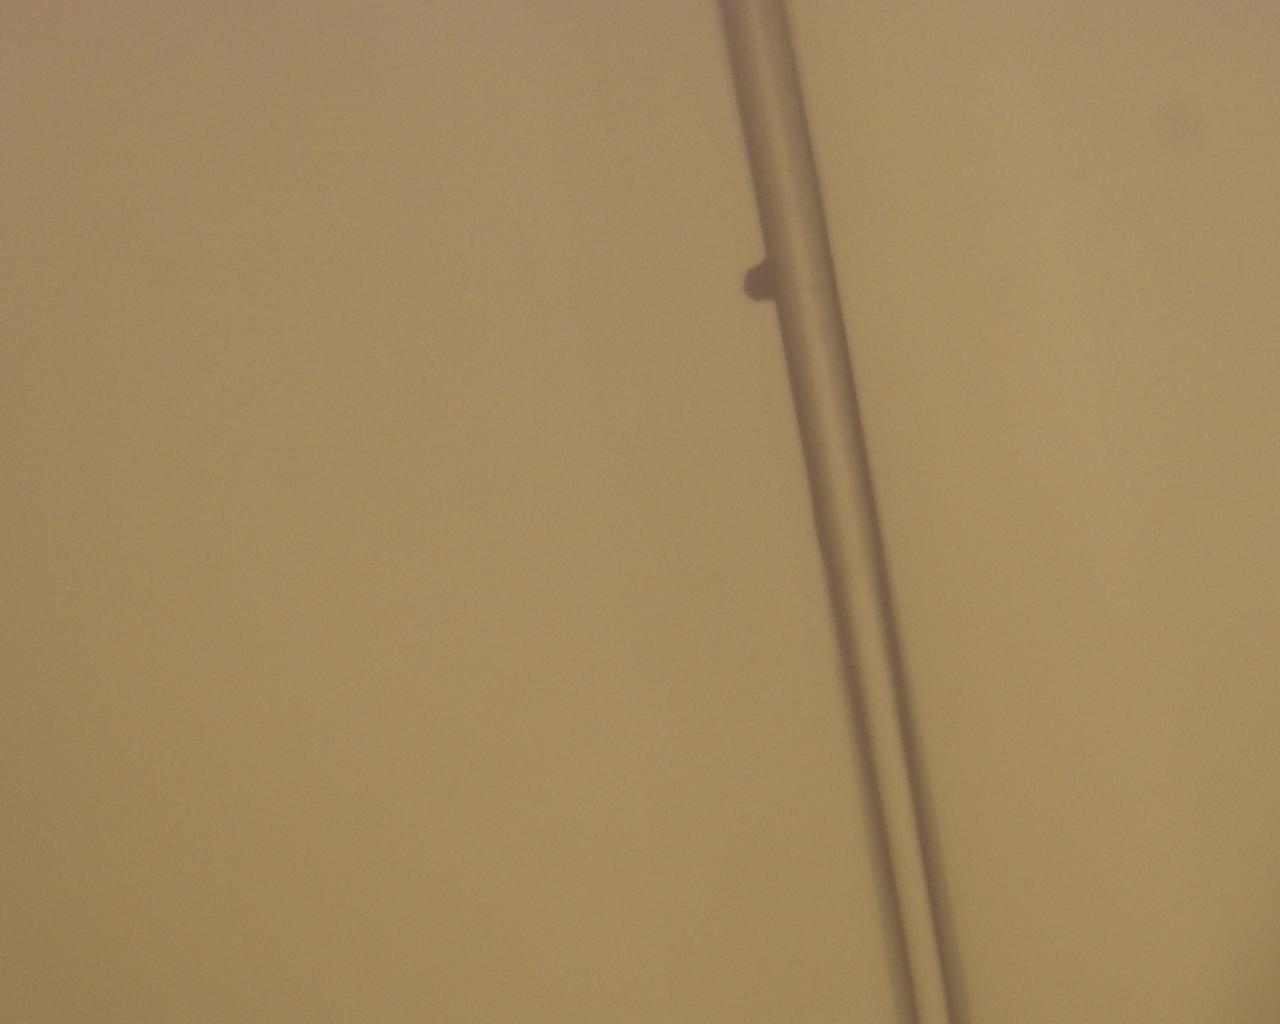fiber: (0, 289, 775, 573), (883, 87, 1280, 499)
